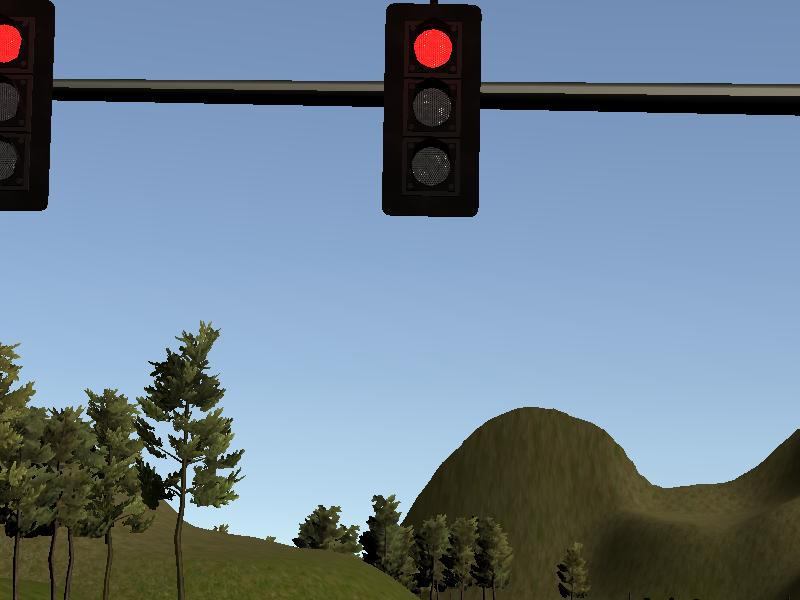red: (387, 4, 478, 217), (1, 2, 45, 210)
